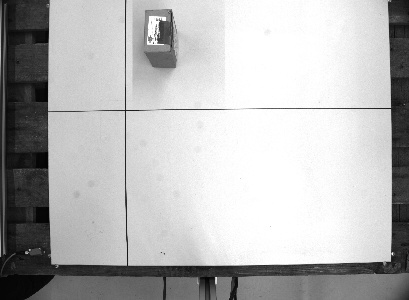b6: (140, 7, 180, 69)
